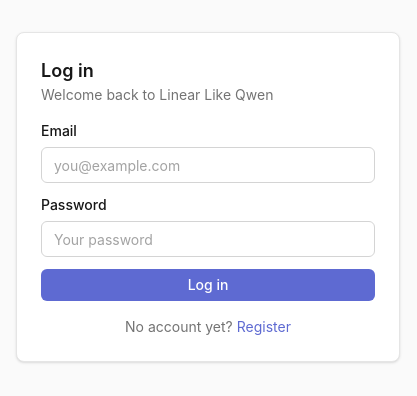
Test: Login › shows an alert when the credentials are rejected
Type "admin@example.com" into the field labelled "Email" at coordinates (208, 165), box [41, 147, 375, 183]
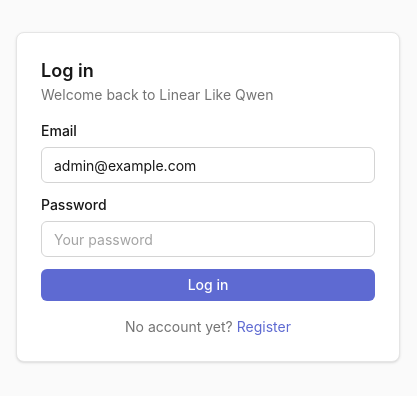
Type "wrong-pass" into the password field with placeholder "Your password" at coordinates (208, 239), box [41, 221, 375, 257]
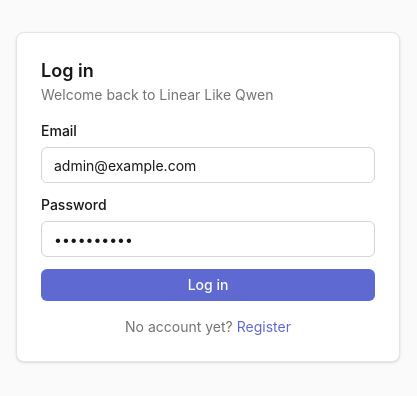
Click the button "Log in" at coordinates (208, 285), box [41, 269, 375, 301]
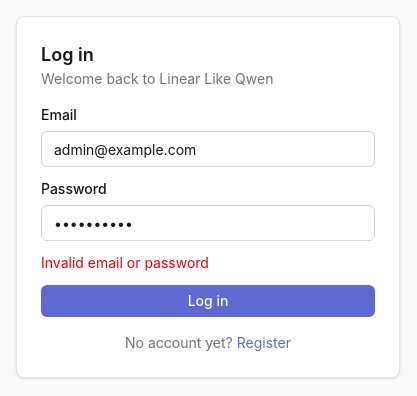
Now the message reads "Invalid email or password", box [41, 254, 209, 271]
